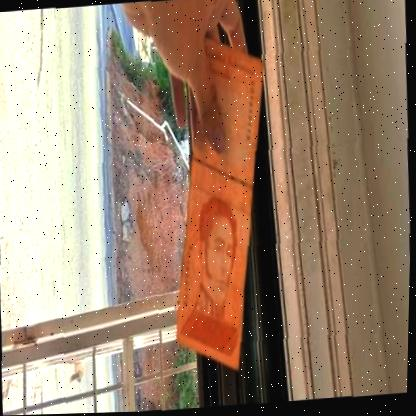vef_front: (160, 34, 280, 377)
